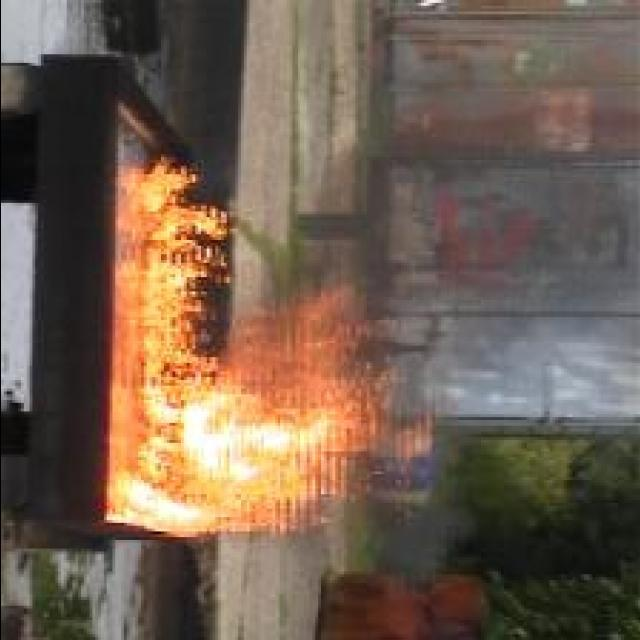Fire: (106, 157, 432, 540)
